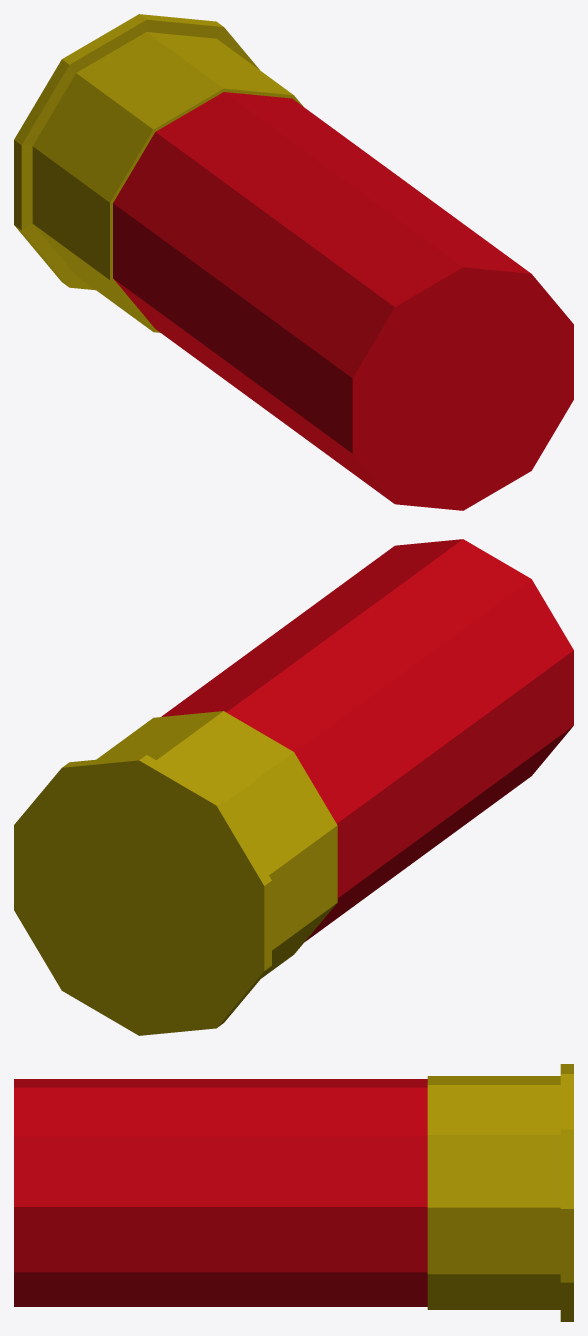
The model's file is bullet.fbx.
3 renders of one model, top to bottom at view 1: azimuth 30°, elevation 25°; view 2: azimuth 150°, elevation 25°; view 3: azimuth 270°, elevation 25°, orthographic. The views are drawn at different scales.
Visible parts, largest first — view 1: Cylinder; view 2: Cylinder; view 3: Cylinder.
Boxes of the visible parts, x1,y1,x2,y2 form: Cylinder: (14, 14, 573, 510); Cylinder: (14, 539, 573, 1035); Cylinder: (14, 1064, 573, 1321).
Size of the model in its own units: 3.2 by 3.36 by 7.17.
